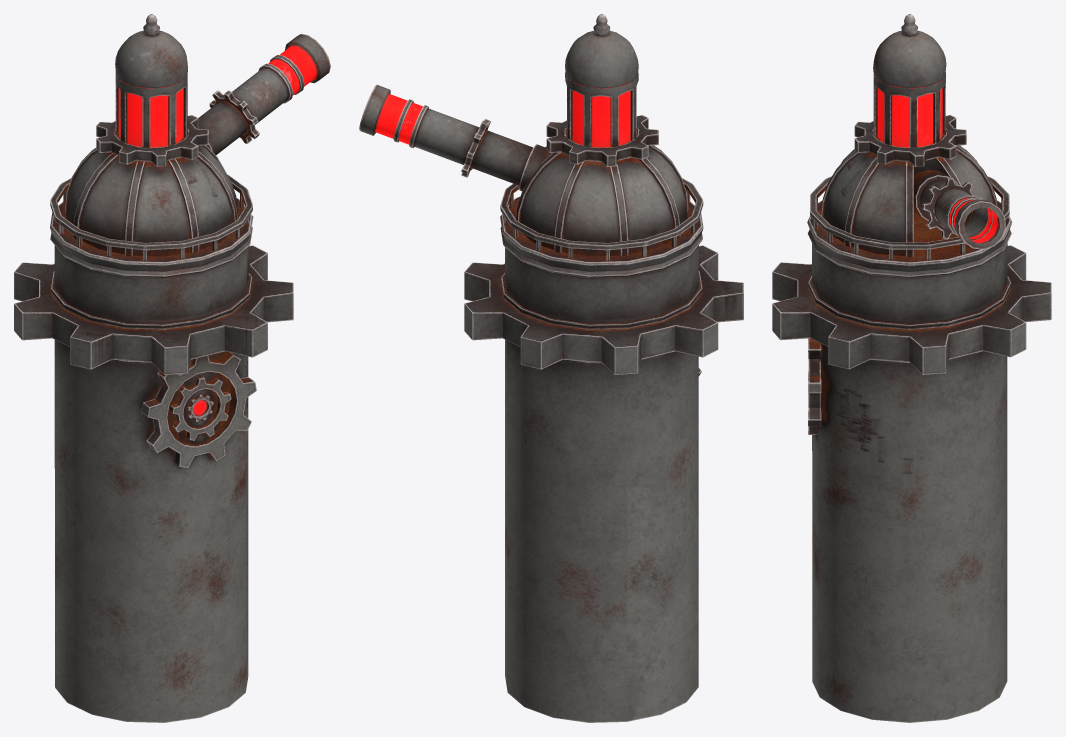
File: wathc_tower.glb
3 views of the same model, side by side, from view 1: azimuth 30°, elevation 25°; view 2: azimuth 150°, elevation 25°; view 3: azimuth 270°, elevation 25° (orthographic).
Parts seen in each view (by area): view 1: Sm_watchtower; view 2: Sm_watchtower; view 3: Sm_watchtower.
Part boxes in pixels (bbox=[...]): Sm_watchtower: bbox=[14, 14, 330, 722]; Sm_watchtower: bbox=[359, 14, 743, 722]; Sm_watchtower: bbox=[772, 14, 1051, 722].
Size of the model in its own units: 0.6311 by 1.23 by 0.4656.
1 material, 1 textured.
